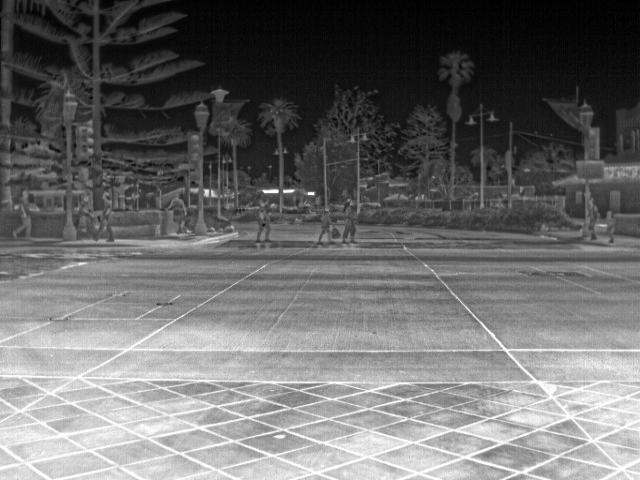person: (92, 192, 114, 244), (13, 189, 34, 240), (165, 192, 188, 236), (255, 198, 273, 246), (338, 198, 357, 243), (314, 204, 334, 244), (584, 192, 597, 239), (74, 195, 91, 225), (602, 208, 616, 241)
